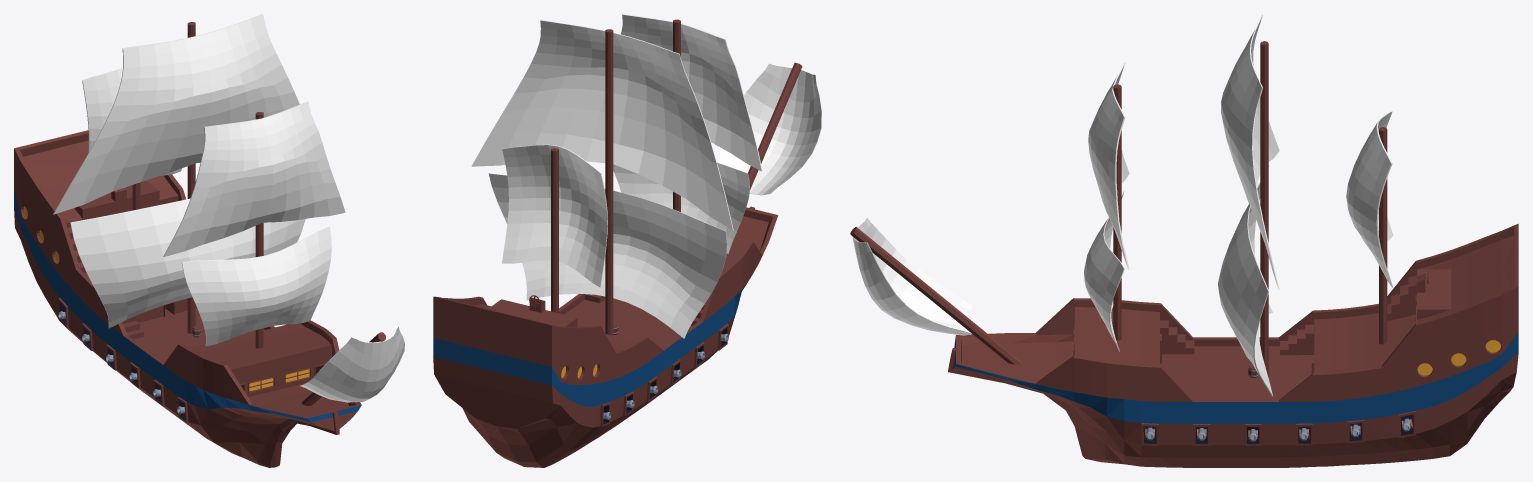
Rendered from ship.glb.
3 renders of one model, left to right at view 1: azimuth 30°, elevation 25°; view 2: azimuth 150°, elevation 25°; view 3: azimuth 270°, elevation 25°, orthographic. The views are drawn at different scales.
Visible parts, largest first — view 1: Cube.002; view 2: Cube.002; view 3: Cube.002.
Part boxes in pixels (bbox=[...]): Cube.002: bbox=[14, 14, 404, 467]; Cube.002: bbox=[433, 14, 821, 467]; Cube.002: bbox=[850, 14, 1518, 467].
Size of the model in its own units: 21.83 by 30.64 by 44.37.
Materials: 1 (1 with a texture image).
